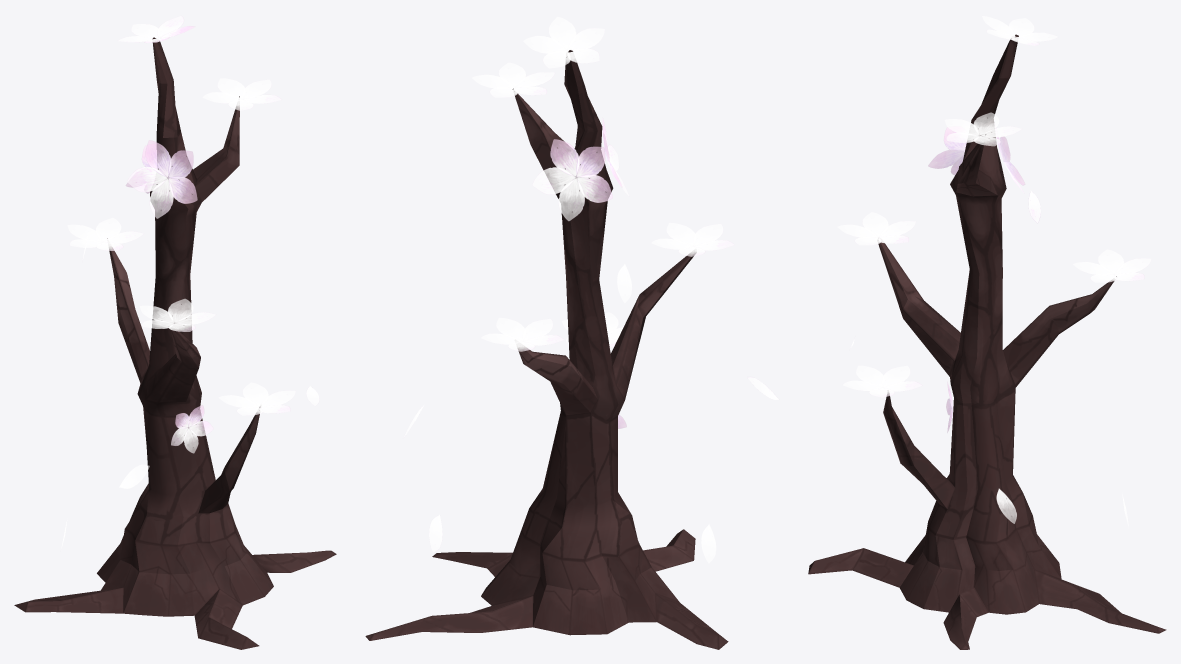
Rendered from mytree2.glb.
3 views of the same model, side by side, from view 1: azimuth 30°, elevation 25°; view 2: azimuth 150°, elevation 25°; view 3: azimuth 270°, elevation 25° (orthographic). The views are drawn at different scales.
Parts seen in each view (by area): view 1: polySurface1, SM_petalarray11:pPlane2, SM_petalarray11:pPlane3, SM_petalarray11:pPlane1, SM_petalarray11:pPlane4, SM_petalarray11:pPlane5; view 2: polySurface1, SM_petalarray12:pPlane2, SM_petalarray12:pPlane3, SM_petalarray12:pPlane1, SM_petalarray12:pPlane4, SM_petalarray12:pPlane5, SM_petalarray2:pPlane5; view 3: polySurface1.
Boxes of the visible parts, bbox=[...] form: polySurface1: bbox=[14, 37, 336, 649]; SM_petalarray11:pPlane2: bbox=[127, 166, 167, 192]; SM_petalarray11:pPlane3: bbox=[149, 178, 173, 218]; SM_petalarray11:pPlane1: bbox=[145, 140, 171, 177]; SM_petalarray11:pPlane4: bbox=[168, 176, 197, 203]; SM_petalarray11:pPlane5: bbox=[168, 150, 193, 178]; polySurface1: bbox=[365, 50, 728, 649]; SM_petalarray12:pPlane2: bbox=[532, 167, 575, 194]; SM_petalarray12:pPlane3: bbox=[558, 177, 584, 220]; SM_petalarray12:pPlane1: bbox=[550, 139, 579, 176]; SM_petalarray12:pPlane4: bbox=[576, 174, 612, 202]; SM_petalarray12:pPlane5: bbox=[576, 146, 605, 177]; SM_petalarray2:pPlane5: bbox=[549, 17, 576, 49]; polySurface1: bbox=[808, 34, 1166, 649].
Size of the model in its own units: 11.02 by 19.25 by 11.26.
Materials: 14 (14 with a texture image).
